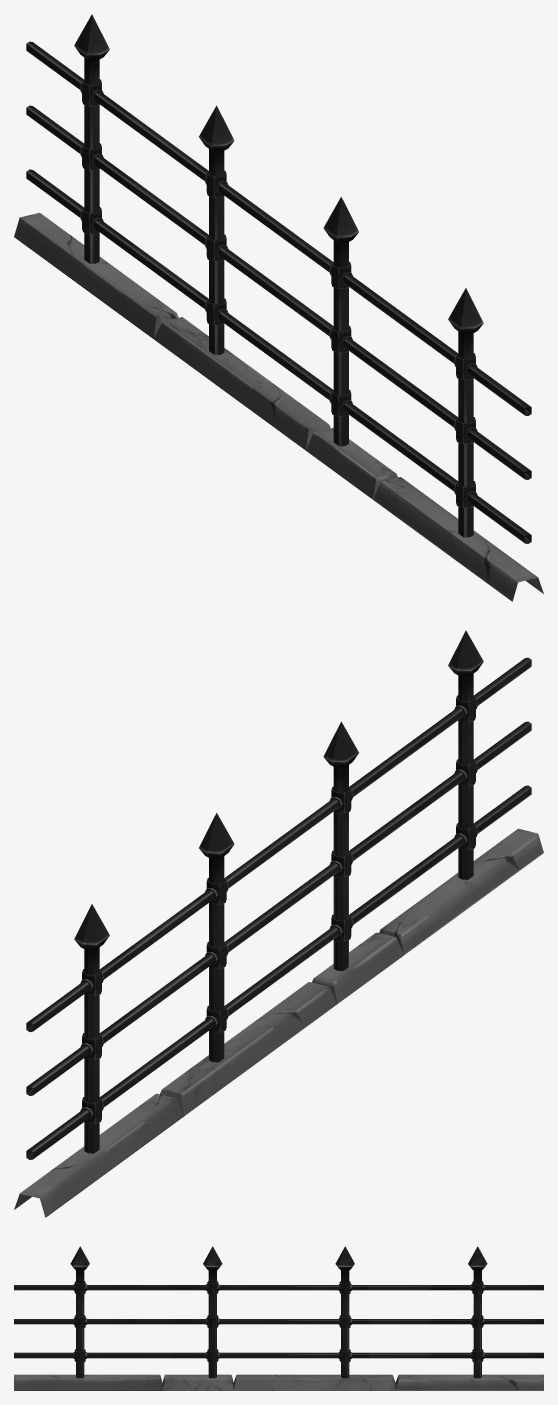
Rendered from SM_fence01.fbx.
3 renders of one model, top to bottom at view 1: azimuth 30°, elevation 25°; view 2: azimuth 150°, elevation 25°; view 3: azimuth 270°, elevation 25°, orthographic. The views are drawn at different scales.
Visible parts, largest first — view 1: SM_fence01; view 2: SM_fence01; view 3: SM_fence01.
Part boxes in pixels (<box>): SM_fence01: <box>14,14,543,601</box>; SM_fence01: <box>14,630,543,1217</box>; SM_fence01: <box>14,1246,543,1390</box>.
Size of the model in its own units: 0.2201 by 1.77 by 6.04.
